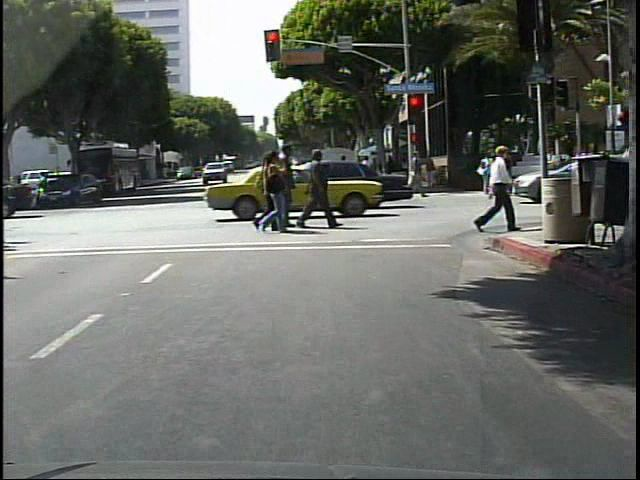person: (476, 140, 519, 237)
